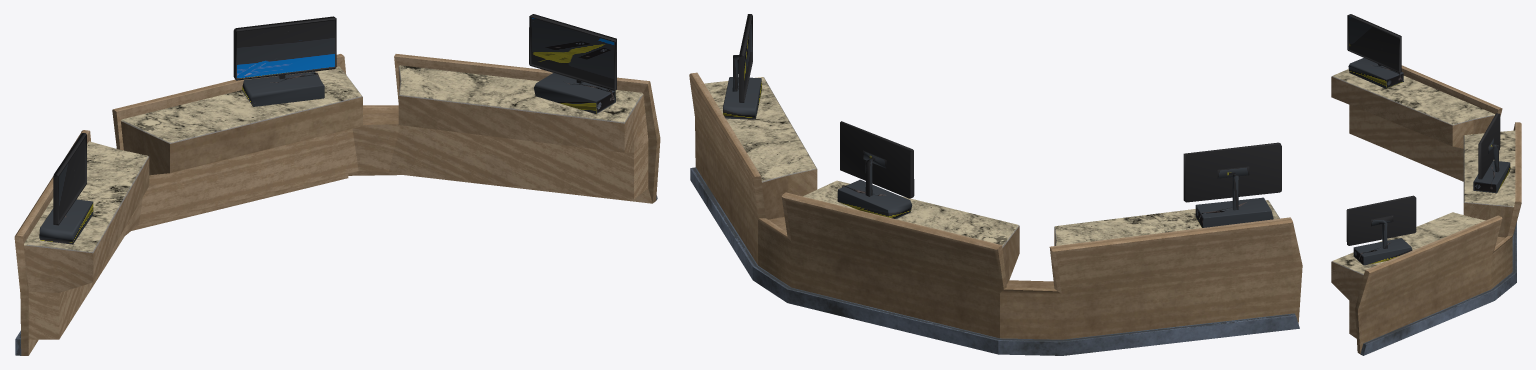
Rendered from reception_desk.glb.
3 renders of one model, left to right at view 1: azimuth 30°, elevation 25°; view 2: azimuth 150°, elevation 25°; view 3: azimuth 270°, elevation 25°, orthographic. The views are drawn at different scales.
Visible parts, largest first — view 1: Desk_Wood, Modular_props1, Desk_Material; view 2: Desk_Wood, Desk_Material, Modular_props1; view 3: Desk_Wood, Desk_Material, Modular_props1.
Part boxes in pixels (x1,y1,x2,y2): Desk_Wood: [14, 54, 660, 355]; Modular_props1: [39, 14, 616, 244]; Desk_Material: [15, 65, 657, 355]; Desk_Wood: [689, 72, 1302, 339]; Desk_Material: [690, 77, 1299, 355]; Modular_props1: [723, 14, 1281, 227]; Desk_Wood: [1331, 65, 1521, 353]; Desk_Material: [1331, 69, 1516, 355]; Modular_props1: [1346, 14, 1510, 265].
Size of the model in its own units: 5.85 by 1.57 by 2.1.
3 materials, 3 textured.
